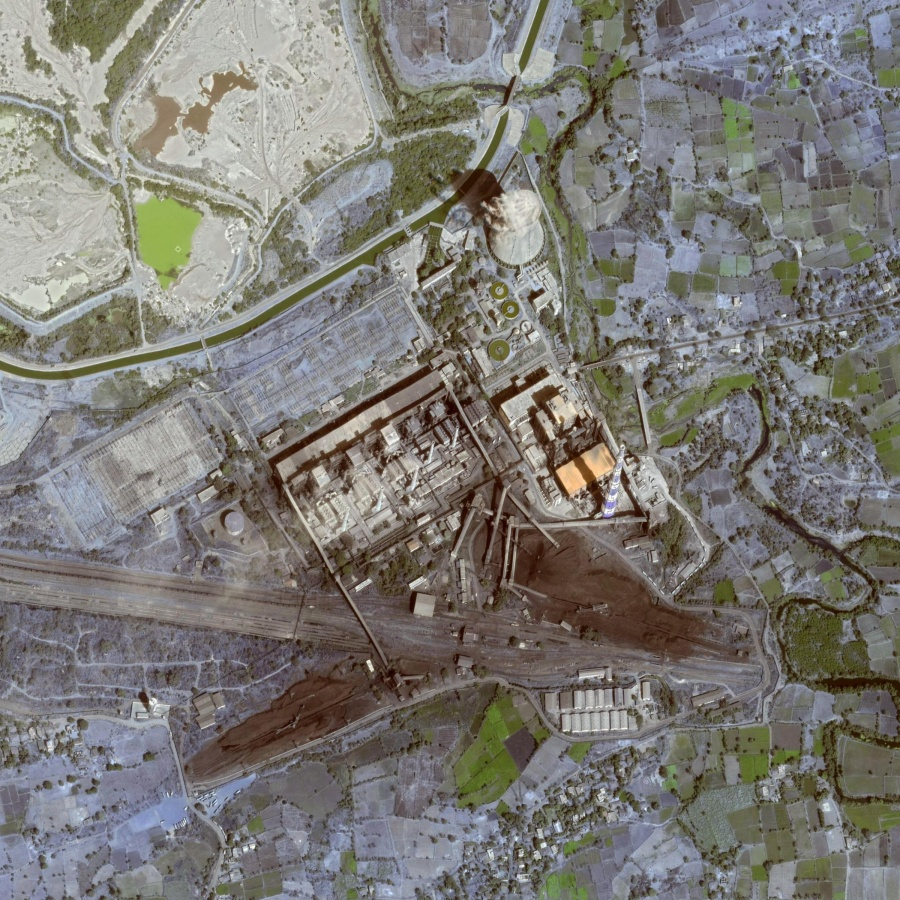PowerPlant: (183, 190, 737, 779)
